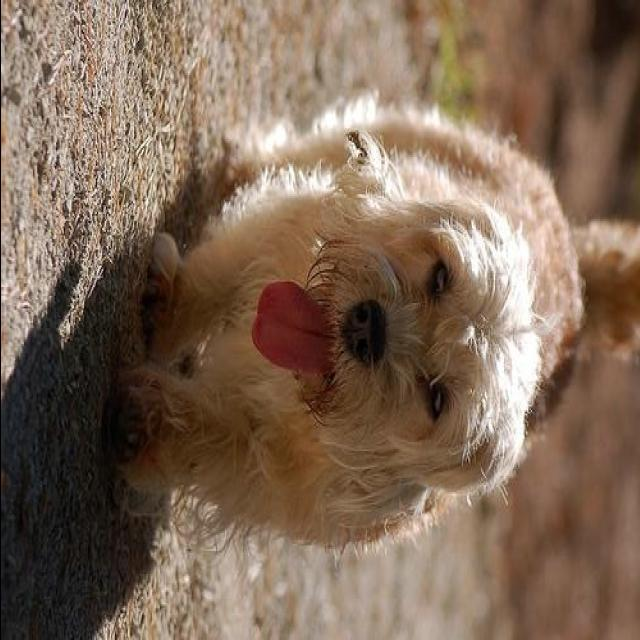dandie_dinmont: (109, 91, 640, 558)
